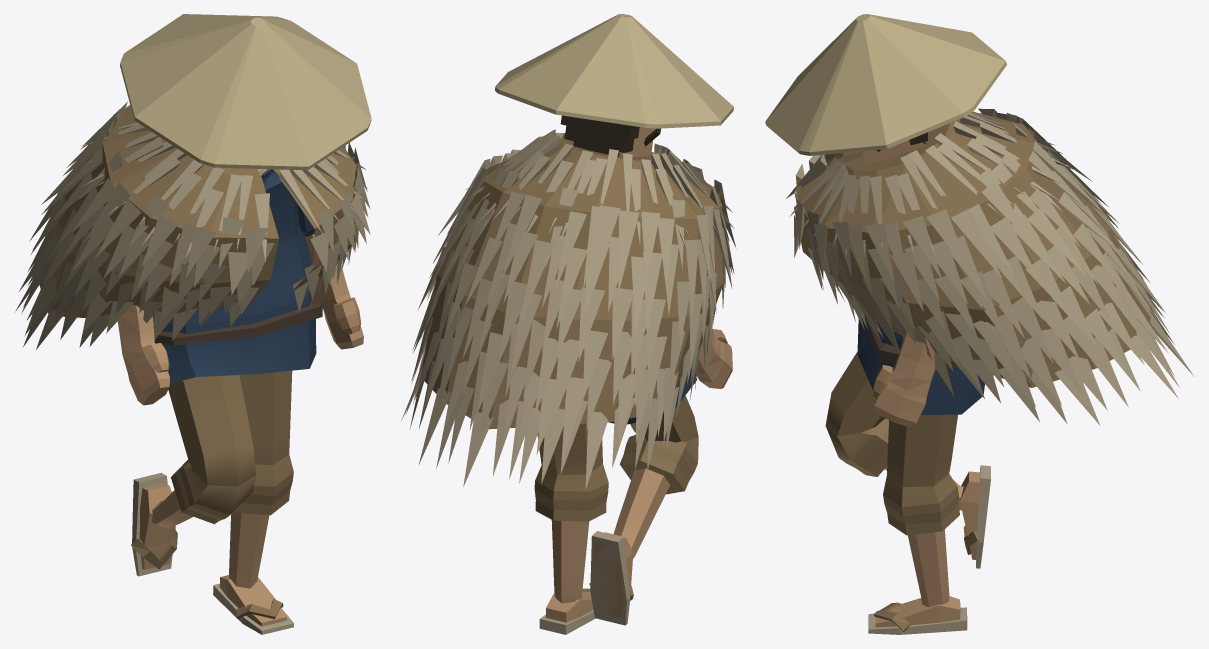
The model's file is farmer-363820__walk2.glb.
3 views of the same model, side by side, from view 1: azimuth 30°, elevation 25°; view 2: azimuth 150°, elevation 25°; view 3: azimuth 270°, elevation 25° (orthographic). The views are drawn at different scales.
Parts seen in each view (by area): view 1: farmer-363820__walk2; view 2: farmer-363820__walk2; view 3: farmer-363820__walk2.
Boxes of the visible parts, x1,y1,x2,y2 form: farmer-363820__walk2: (15,14,371,634); farmer-363820__walk2: (401,14,735,634); farmer-363820__walk2: (765,14,1194,634).
Size of the model in its own units: 0.8597 by 1.83 by 1.19.
